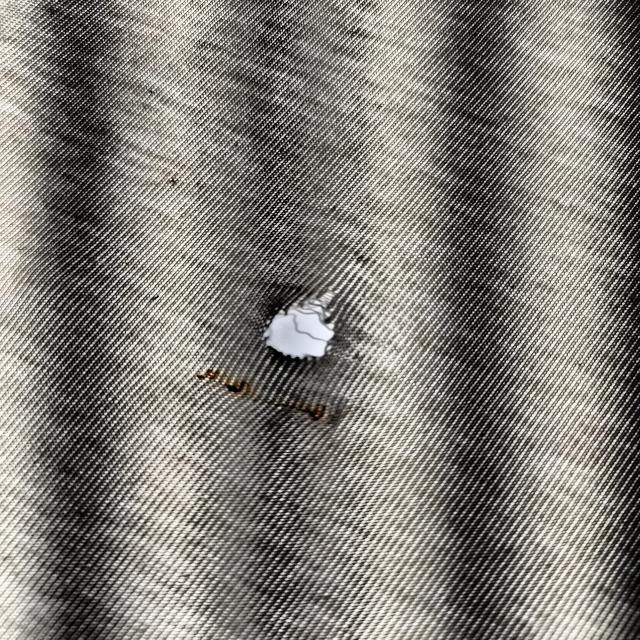cut: (248, 282, 361, 376)
